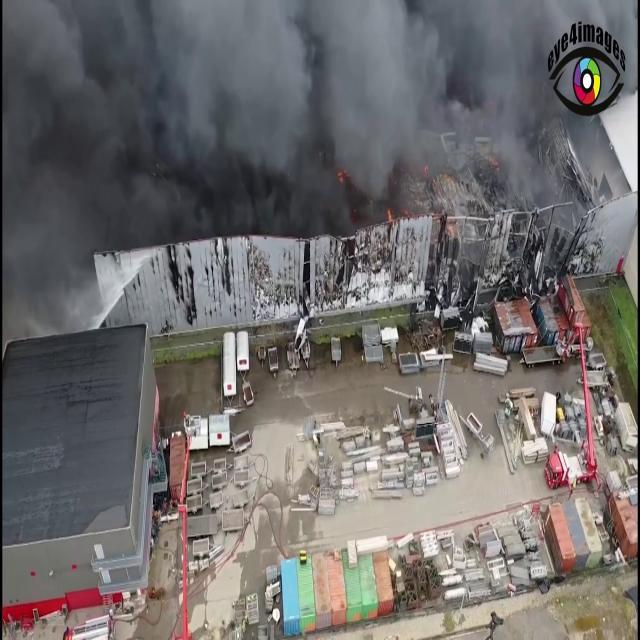Smoke: (11, 1, 576, 238)
